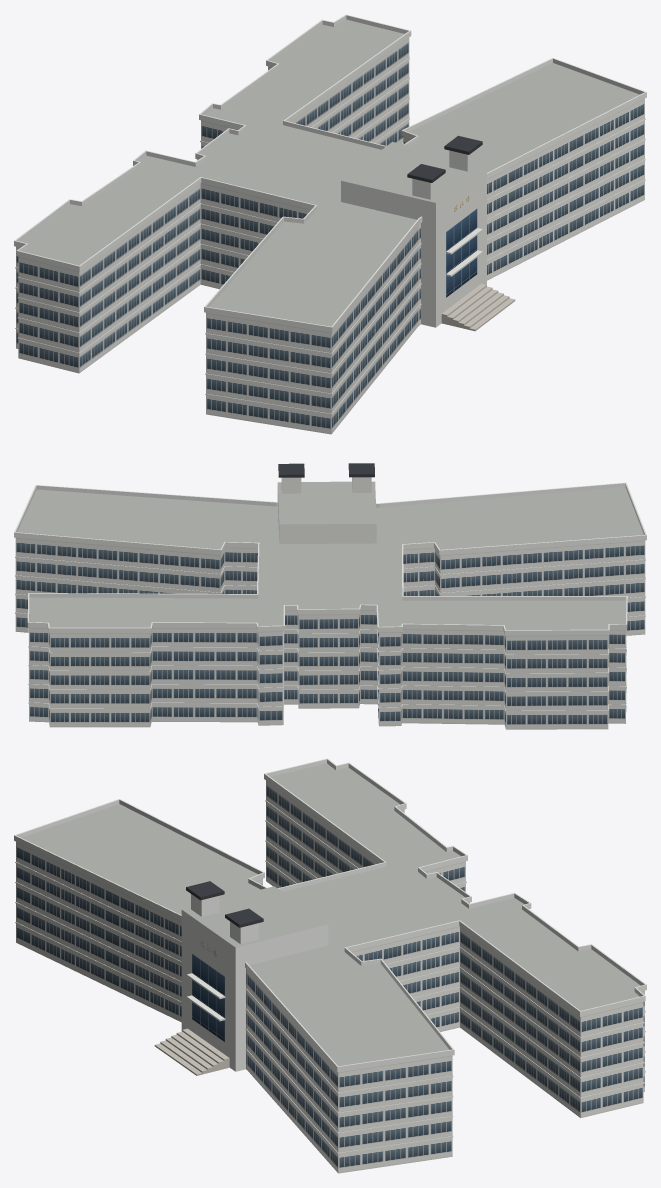
File: binjianglou.glb
3 views of the same model, one above another, from view 1: azimuth 30°, elevation 25°; view 2: azimuth 150°, elevation 25°; view 3: azimuth 270°, elevation 25° (orthographic). The views are drawn at different scales.
Visible parts, largest first — view 1: 滨江楼_主体, 滨江楼_门楼; view 2: 滨江楼_主体, 滨江楼_门楼; view 3: 滨江楼_主体, 滨江楼_门楼.
Part boxes in pixels (x1,y1,x2,y2): 滨江楼_主体: [14, 14, 646, 434]; 滨江楼_门楼: [341, 135, 515, 331]; 滨江楼_主体: [14, 482, 646, 729]; 滨江楼_门楼: [277, 463, 376, 543]; 滨江楼_主体: [14, 758, 646, 1173]; 滨江楼_门楼: [154, 881, 328, 1075].
Size of the model in its own units: 125 by 27.6 by 109.
7 materials, 3 textured.
